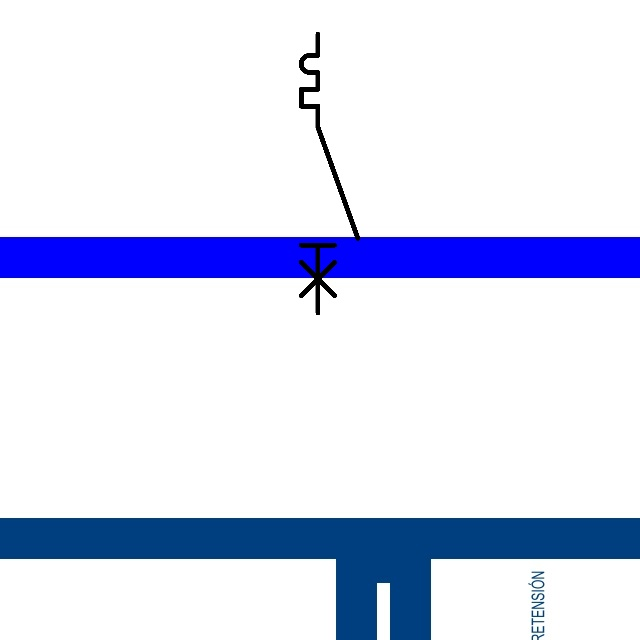interruptor_termomagnetico: (294, 27, 365, 320)
